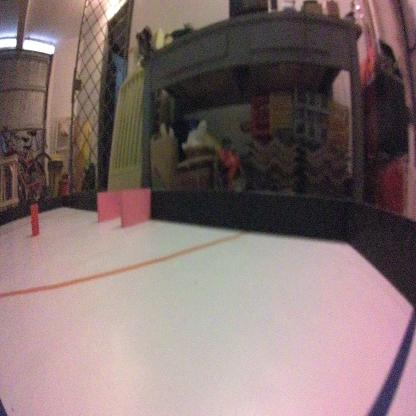magenta: (118, 190, 152, 229), (94, 189, 124, 222)
red: (26, 195, 41, 234)
